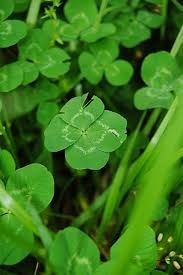4-clover: (45, 96, 126, 168)
